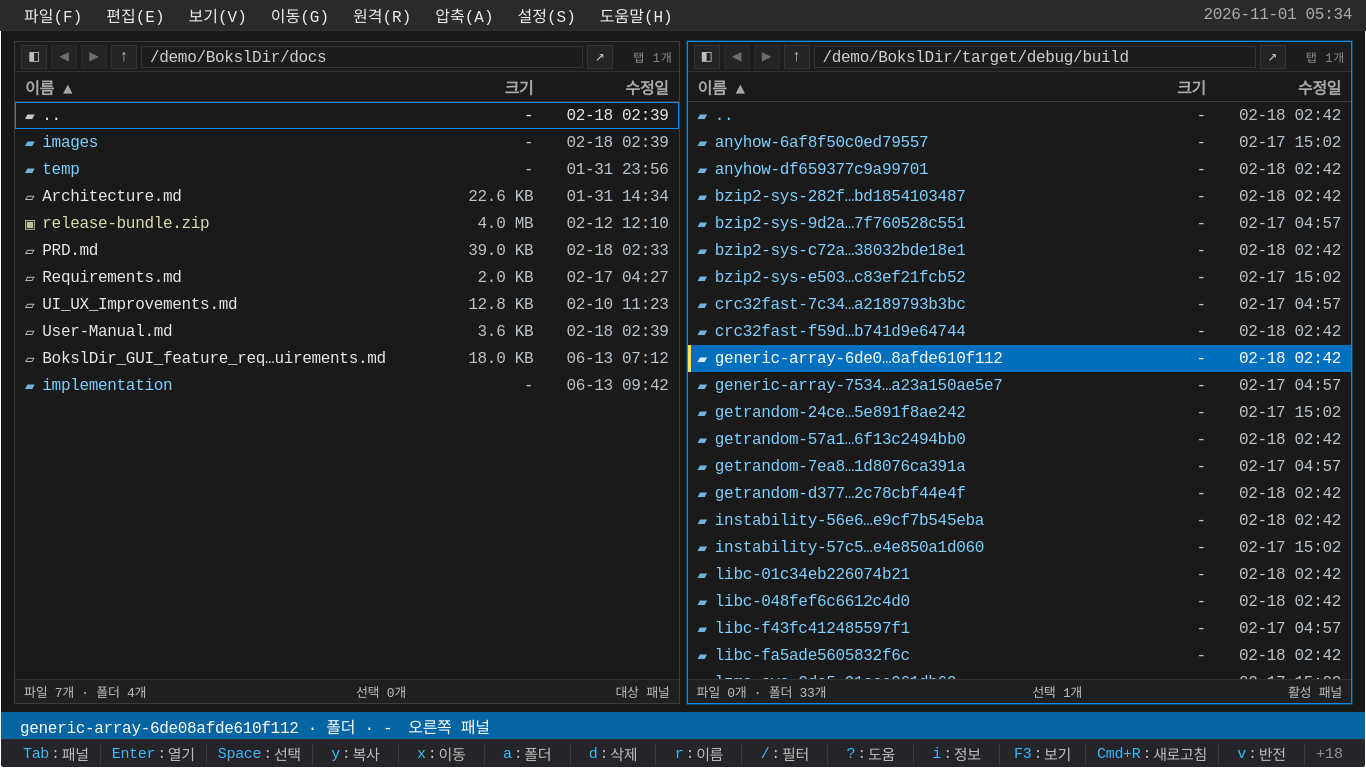
Test: Open With › opens the right-clicked file with the chosen application and restores shell focus
expect the text "Architecture.md" is shown: met, box [42,188,182,206]
Right-click the text "Architecture.md" at (112, 196), box [15,183,678,210]
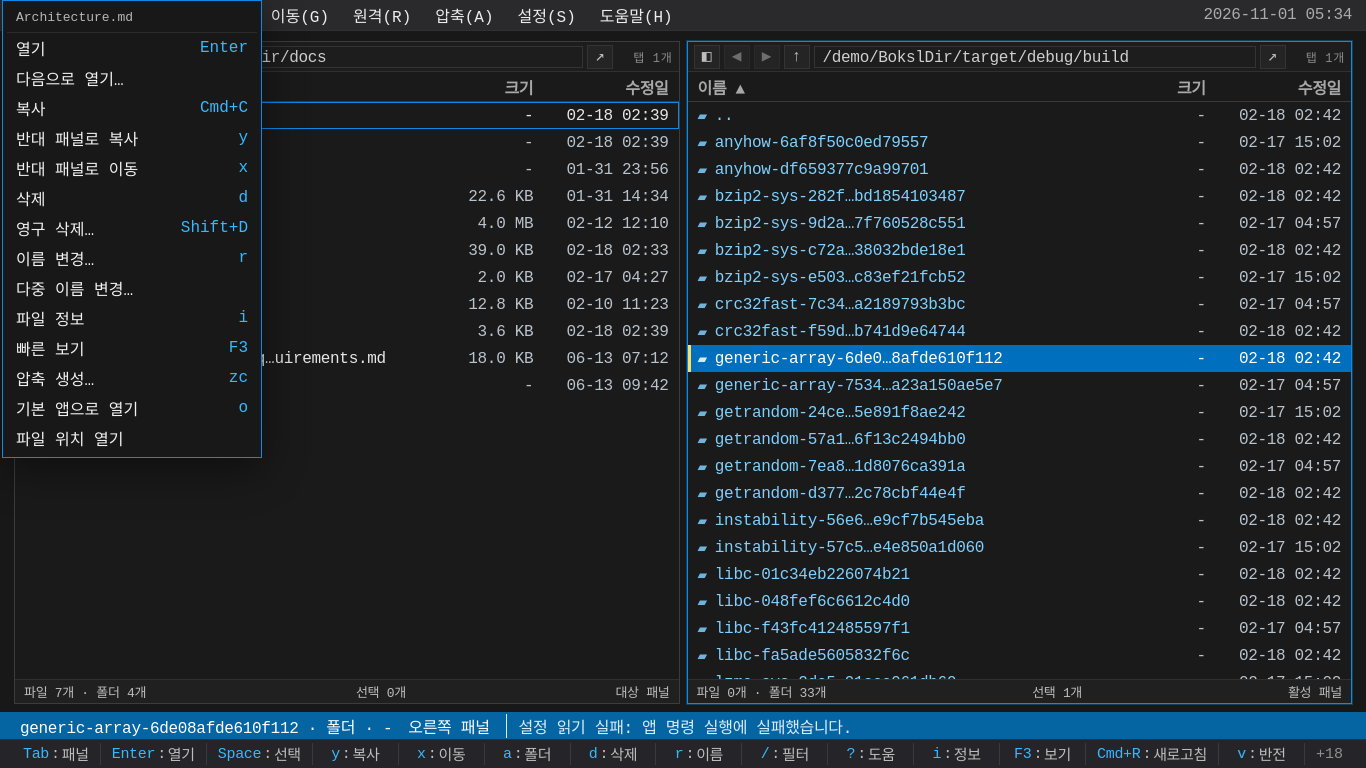
expect the 1st text "Enter" is shown: met, box [200,39,248,57]
Click the menu item "다음으로 열기…". click: (70, 81)
box: [16,72,124,90]
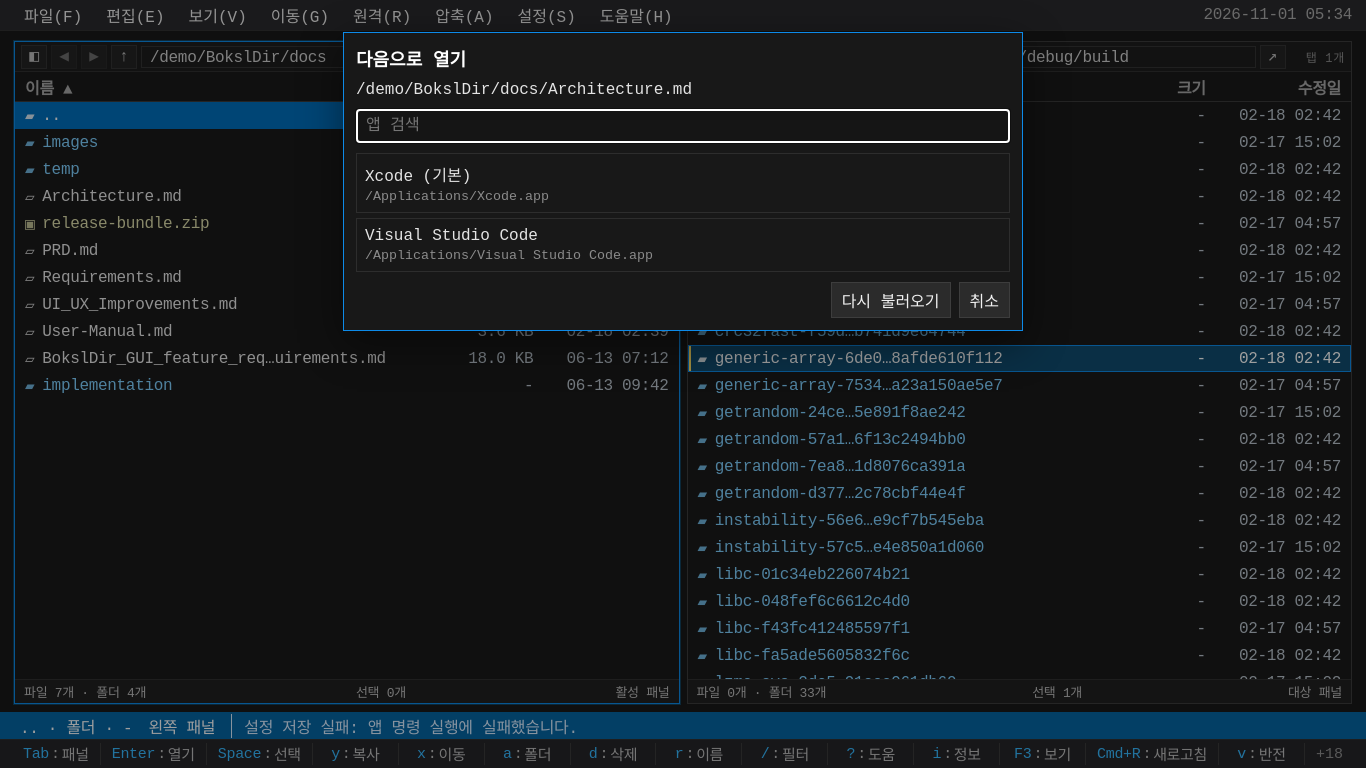
expect the button "Xcode (기본) /Applications/Xcode.app" is shown: met, box [356,153,1010,213]
Type "visual" into the field labelled "앱 검색". click: (683, 126)
box: [356,109,1010,143]
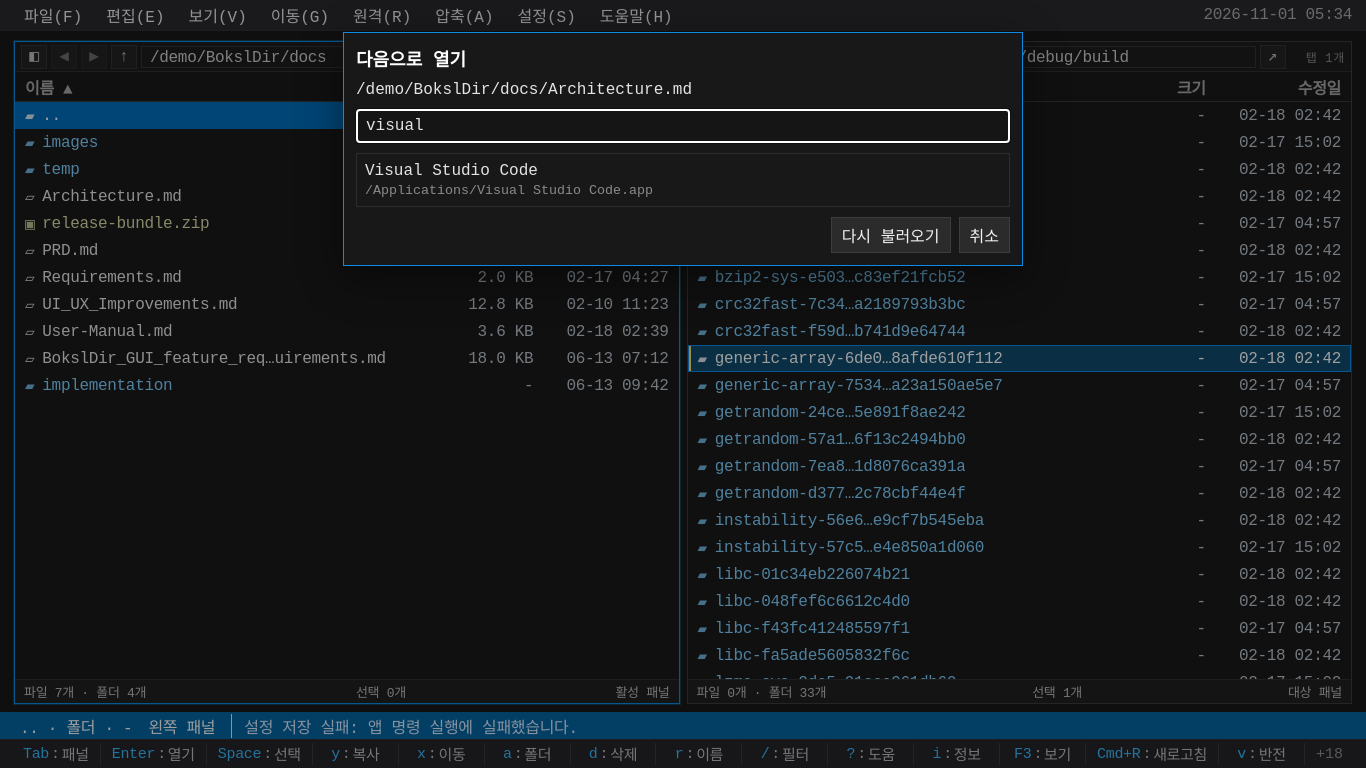
Press Arrowdown Enter
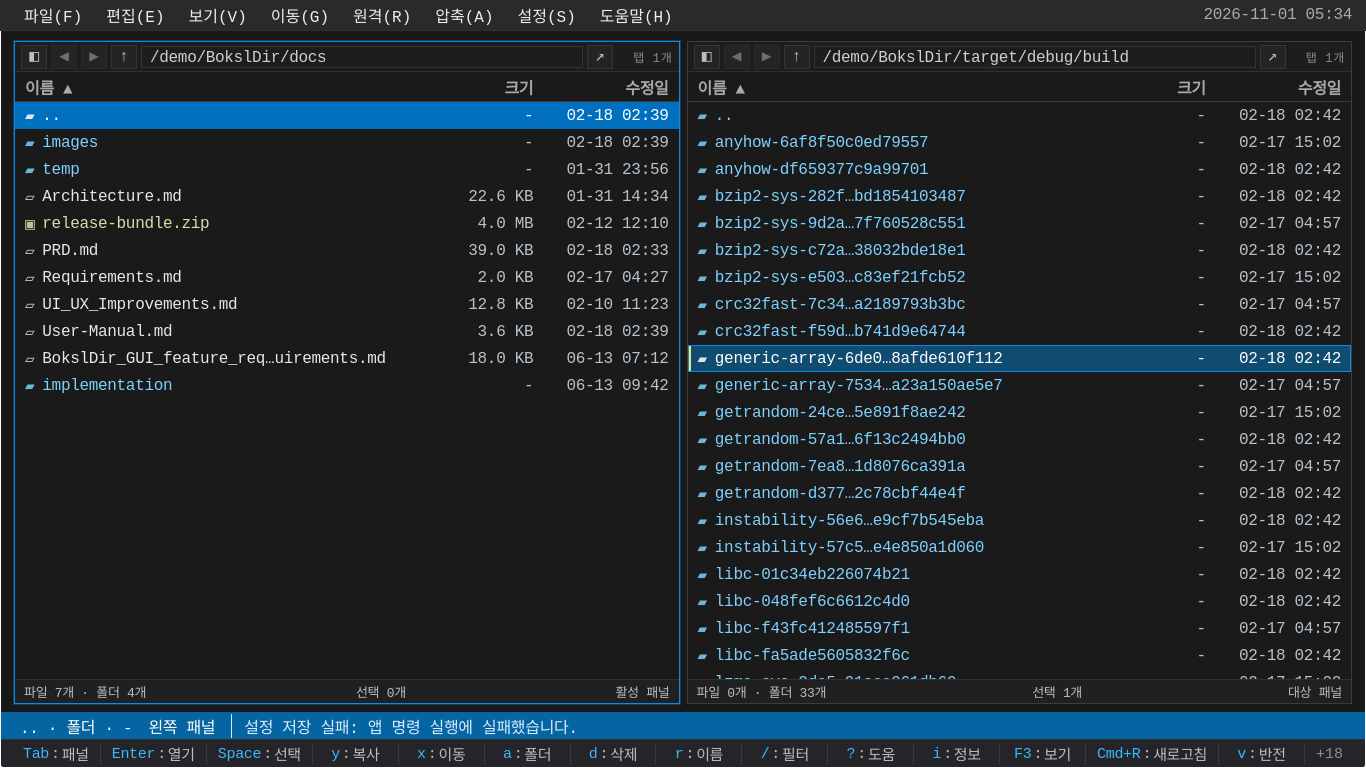
expect the heading "다음으로 열기" is gone: met
